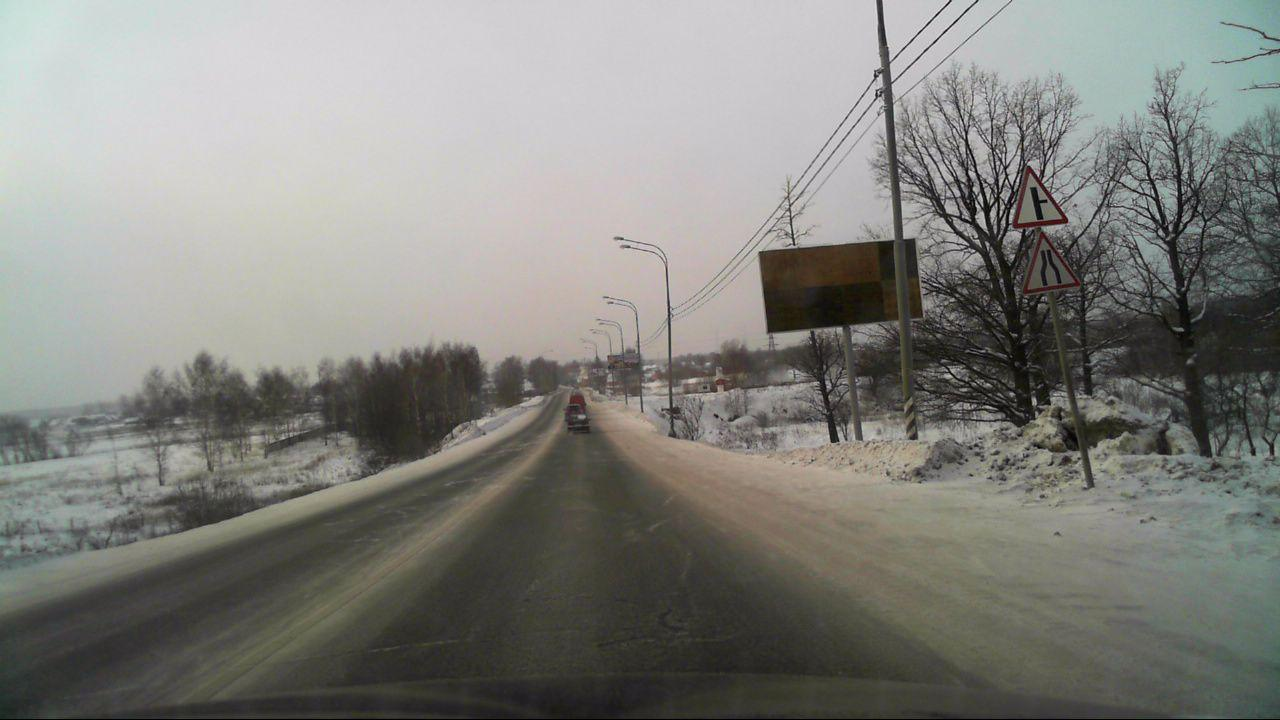1_20_1: (1021, 232, 1079, 294)
2_3_2: (1010, 167, 1068, 229)
